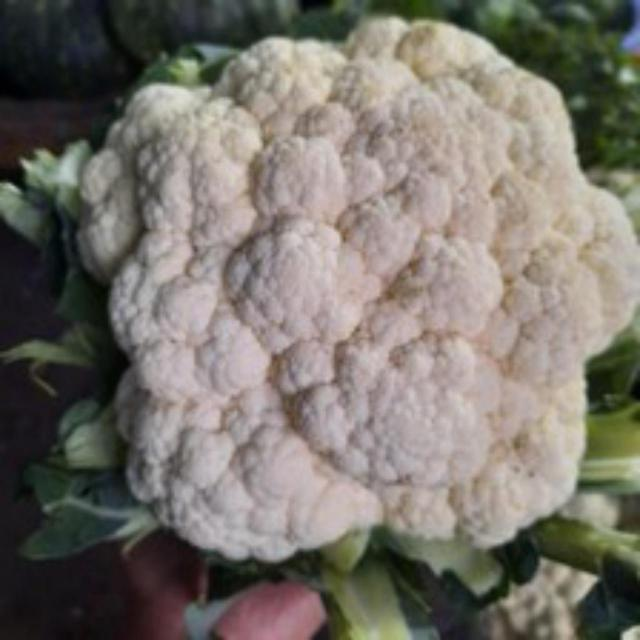cauliflower: (57, 6, 637, 574)
